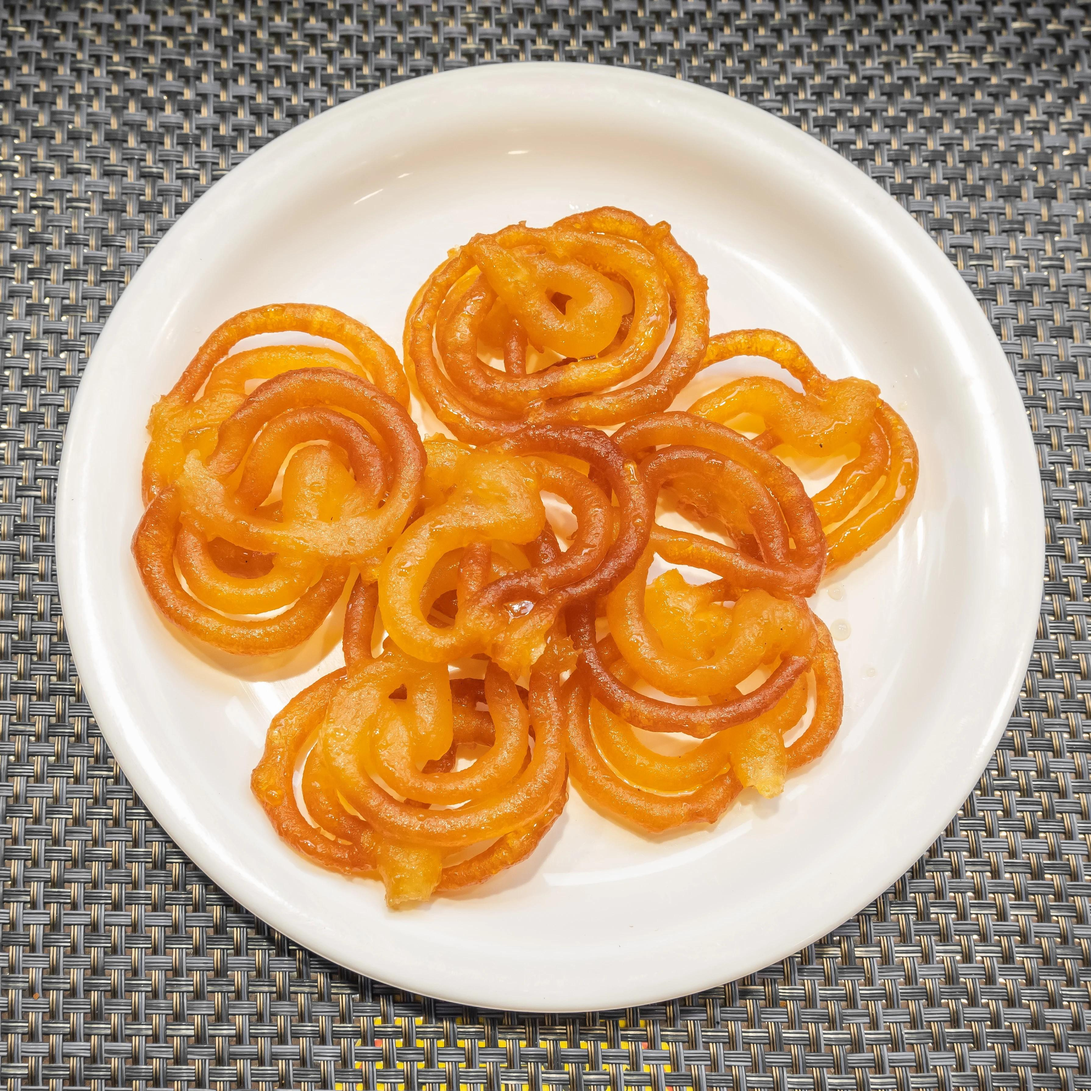Jalebi: (136, 205, 918, 912)
